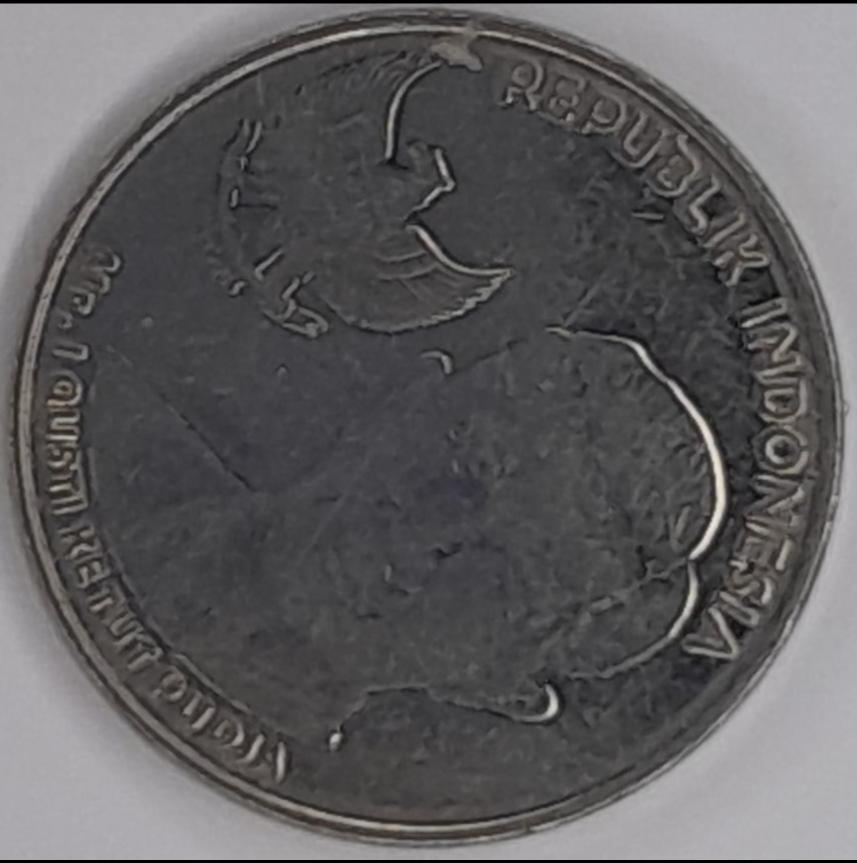coin_1000_e2016: (15, 17, 846, 863)
